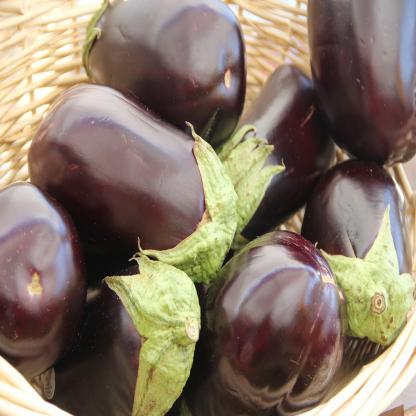eggplant: (26, 85, 232, 290), (209, 227, 350, 415), (51, 250, 202, 416), (80, 0, 247, 148), (304, 154, 416, 361), (214, 61, 338, 239), (308, 0, 416, 167), (0, 182, 84, 380)
